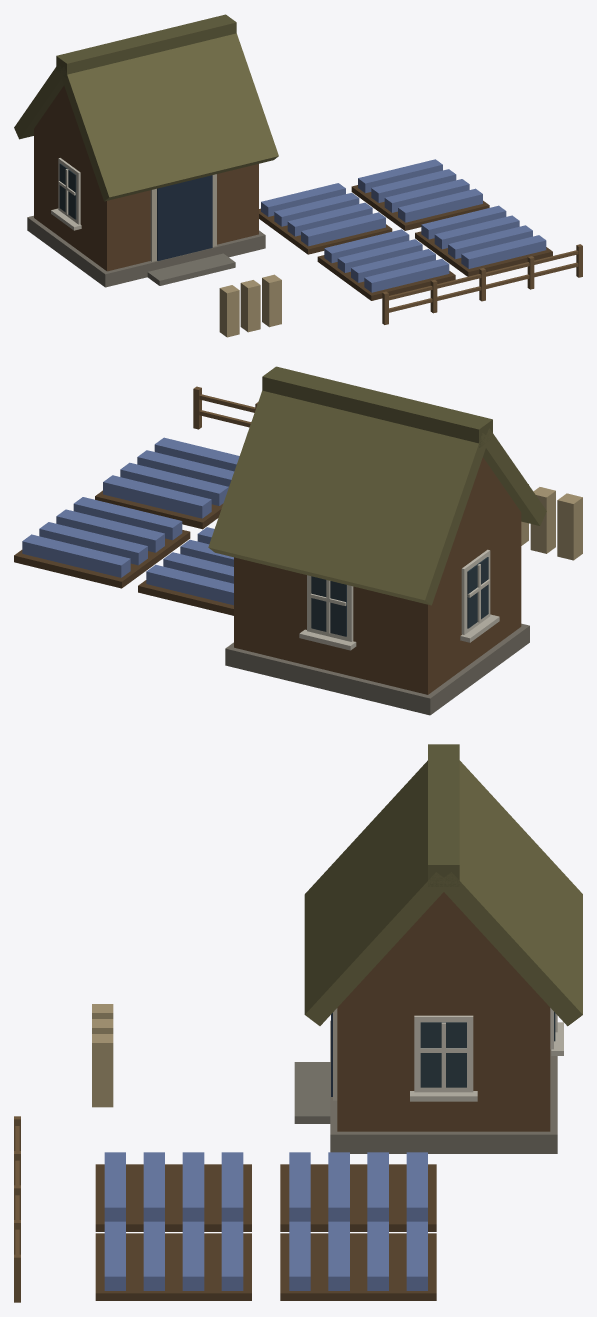
File: procedural_flax_farm@3.glb
The picture shows the model from 3 angles, top to bottom: view 1: azimuth 30°, elevation 25°; view 2: azimuth 150°, elevation 25°; view 3: azimuth 270°, elevation 25°; orthographic projection. The views are drawn at different scales.
Parts seen in each view (by area): view 1: part_0; view 2: part_0; view 3: part_0.
Boxes of the visible parts, x1,y1,x2,y2 form: part_0: (14, 14, 582, 337); part_0: (14, 366, 582, 715); part_0: (14, 744, 582, 1302).
Bounding box in the file's own units: 8.86 × 4.54 × 8.01.
